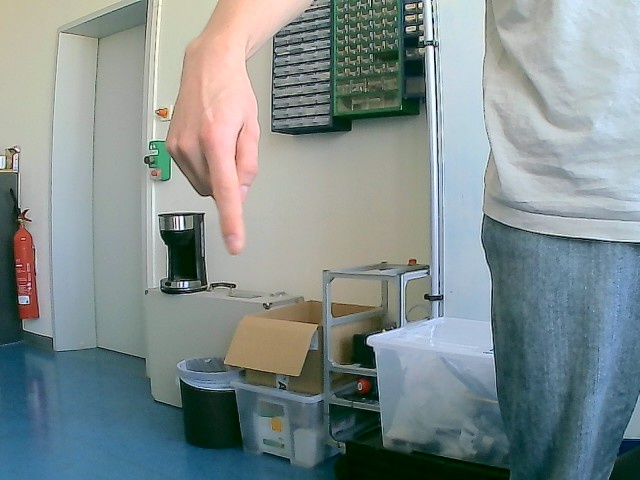down: (164, 40, 262, 256)
